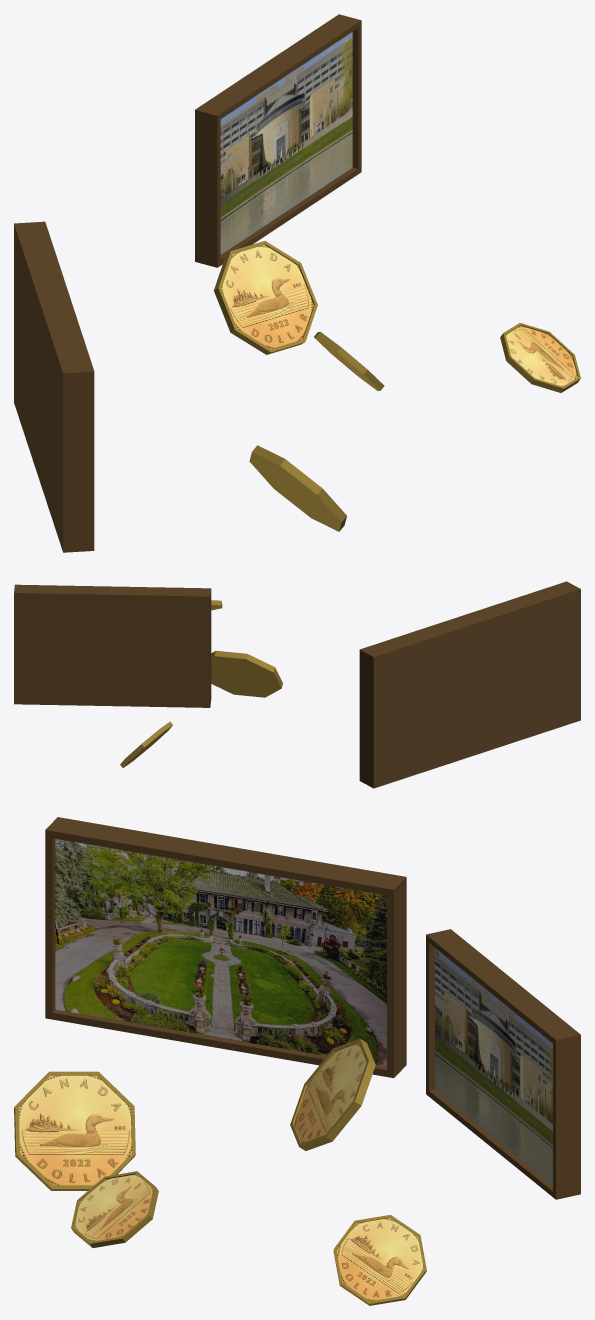
The model's file is Vari.glb.
The picture shows the model from 3 angles, top to bottom: view 1: azimuth 30°, elevation 25°; view 2: azimuth 150°, elevation 25°; view 3: azimuth 270°, elevation 25°; orthographic projection. The views are drawn at different scales.
Parts seen in each view (by area): view 1: Cube.001, Cube, Cylinder.001, Cylinder.003, Cylinder, Cylinder.002; view 2: Cube, Cube.001, Cylinder.001, Cylinder.002; view 3: Cube, Cube.001, Cylinder, Cylinder.002, Cylinder.001, Cylinder.003.
Part boxes in pixels (left/top/right/bottom): Cube.001: left=195, top=14, right=361, bottom=267; Cube: left=14, top=221, right=94, bottom=552; Cylinder.001: left=214, top=241, right=317, bottom=354; Cylinder.003: left=500, top=323, right=580, bottom=392; Cylinder: left=249, top=445, right=346, bottom=531; Cylinder.002: left=314, top=331, right=384, bottom=390; Cube: left=359, top=581, right=580, bottom=788; Cube.001: left=14, top=584, right=211, bottom=707; Cylinder.001: left=211, top=650, right=282, bottom=697; Cylinder.002: left=120, top=721, right=172, bottom=767; Cube: left=45, top=817, right=406, bottom=1078; Cube.001: left=426, top=929, right=580, bottom=1199; Cylinder: left=14, top=1071, right=135, bottom=1190; Cylinder.002: left=333, top=1215, right=426, bottom=1305; Cylinder.001: left=290, top=1039, right=375, bottom=1150; Cylinder.003: left=71, top=1171, right=158, bottom=1247.
Bounding box in the file's own units: 5.69 × 2.89 × 4.9.
Materials: 5 (3 with a texture image).
